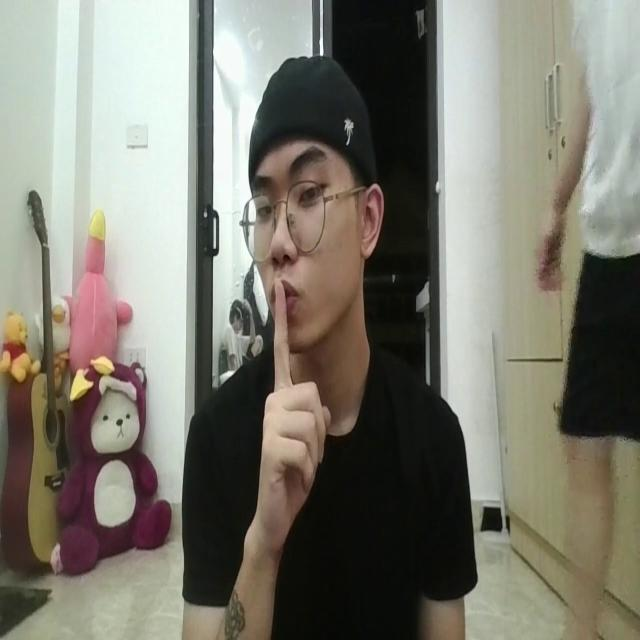student: (189, 53, 473, 640)
